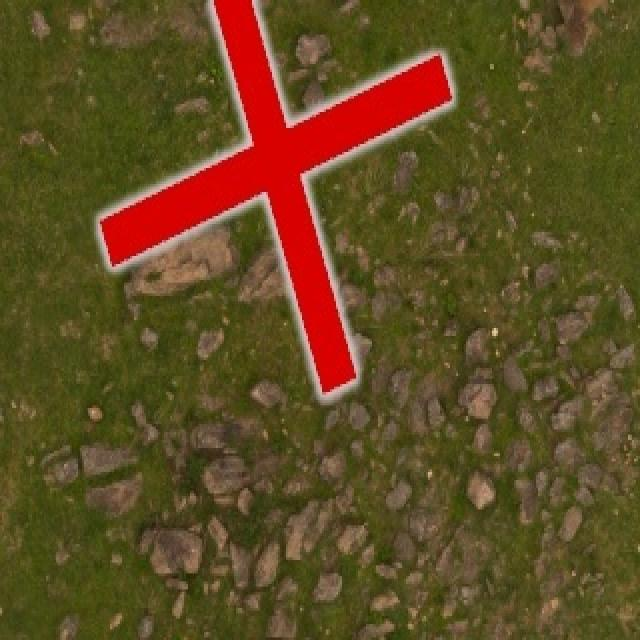x_marker: (99, 0, 451, 395)
